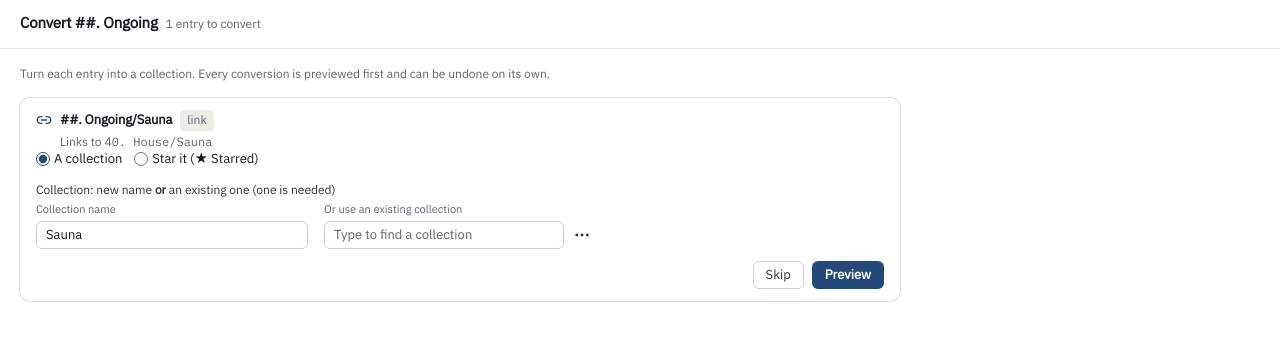
Test: ConvertOngoing › the existing-collection picker shows the full path; it matches on the last name and on the path
This screenshot has width=1280, height=337.
Step 1. Type "sauna conv" into the dropdown labelled "Or use an existing collection" → (444, 235), box [324, 221, 564, 249]
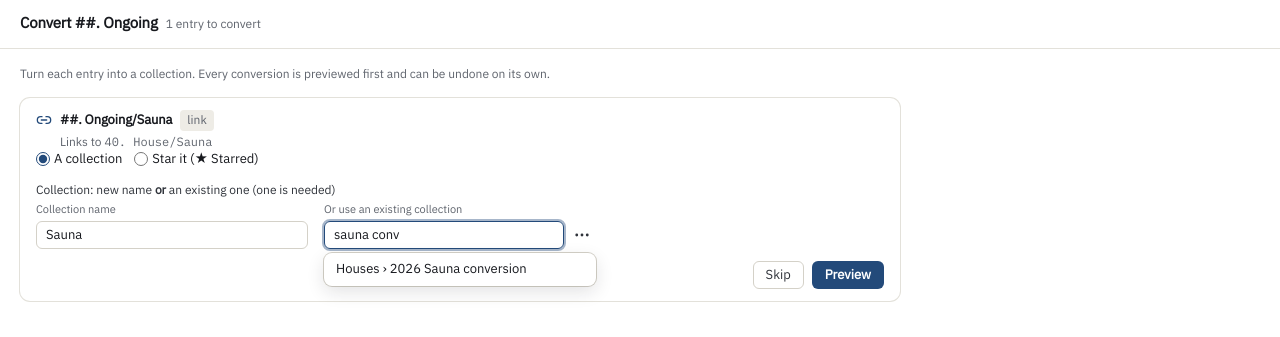
Check: the options read "Houses › 2026 Sauna conversion", in this order, box [336, 260, 527, 277]
Step 2. Replace the text in the dropdown labelled "Or use an existing collection" with "houses" → (444, 235), box [324, 221, 564, 249]
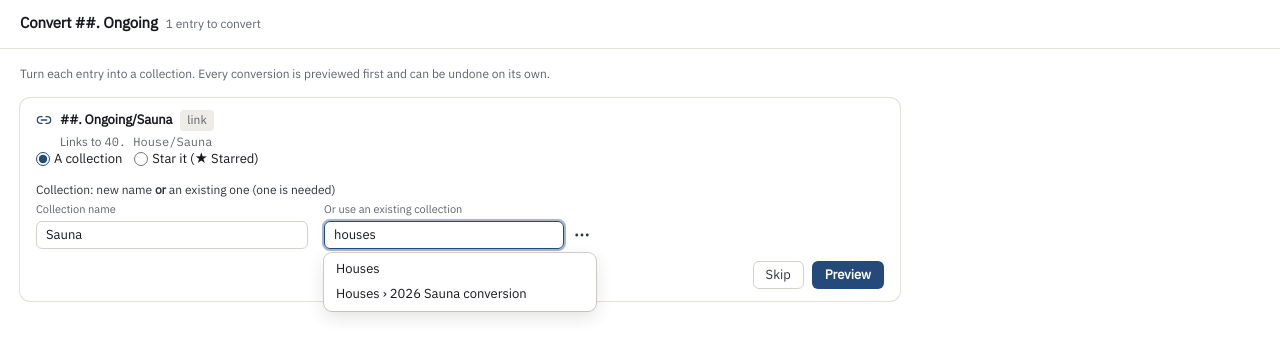
Check: the options read "Houses", "Houses › 2026 Sauna conversion", in this order
Step 3. Click the option "Houses › 2026 Sauna conversion" → (431, 294), box [336, 285, 527, 302]
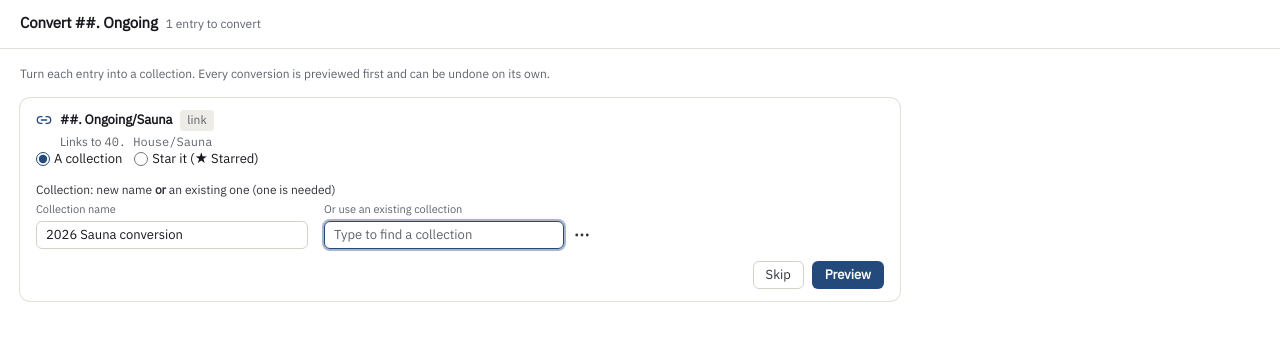
Check: the field labelled "Collection name" holds "2026 Sauna conversion", box [36, 221, 308, 249]
